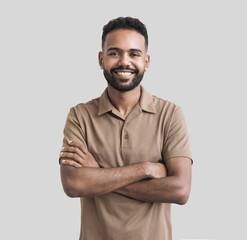young: (93, 12, 150, 99)
